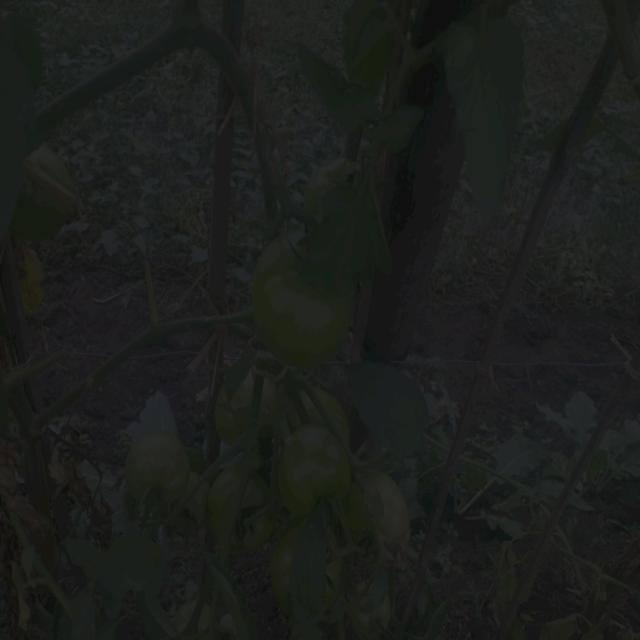tomato: (253, 239, 352, 359), (350, 465, 420, 554), (125, 432, 194, 511), (278, 428, 348, 505), (263, 533, 301, 609), (247, 481, 279, 549), (217, 383, 253, 440), (321, 535, 345, 614), (300, 388, 345, 428), (314, 159, 360, 188), (355, 604, 397, 635), (216, 468, 233, 524), (213, 614, 231, 640)
